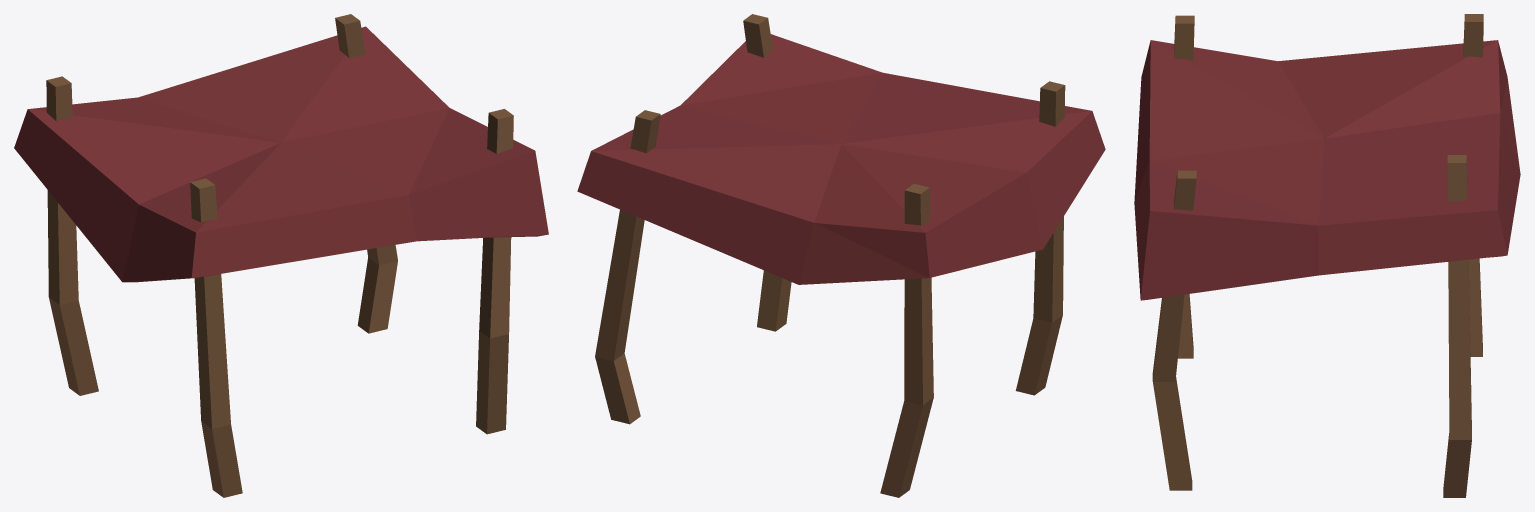
The model's file is Cover_Tiny.fbx.
The picture shows the model from 3 angles, left to right: view 1: azimuth 30°, elevation 25°; view 2: azimuth 150°, elevation 25°; view 3: azimuth 270°, elevation 25°; orthographic projection. The views are drawn at different scales.
Visible parts, largest first — view 1: SM_Prop_Aventure_Cover_01; view 2: SM_Prop_Aventure_Cover_01; view 3: SM_Prop_Aventure_Cover_01.
Boxes of the visible parts, x1,y1,x2,y2 form: SM_Prop_Aventure_Cover_01: [14, 14, 548, 497]; SM_Prop_Aventure_Cover_01: [577, 14, 1105, 497]; SM_Prop_Aventure_Cover_01: [1134, 14, 1520, 497].
Size of the model in its own units: 68.59 by 56.69 by 61.56.
